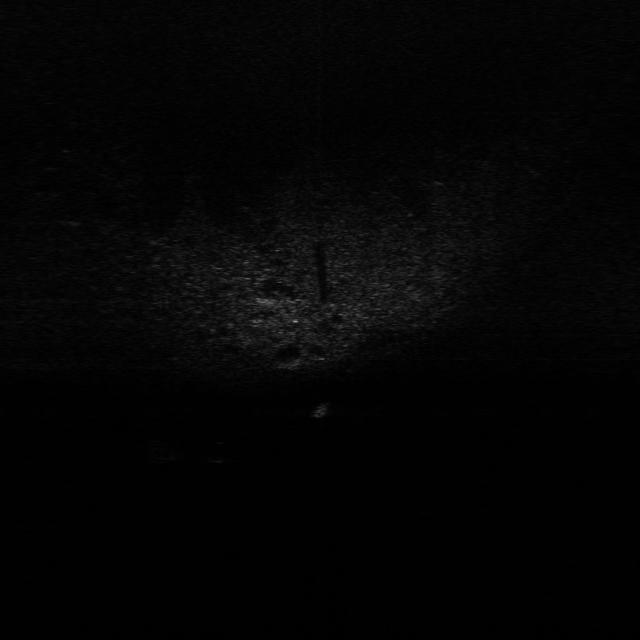ball: (202, 437, 237, 463)
circle cage: (134, 433, 184, 468)
cylinder: (312, 398, 334, 426)
